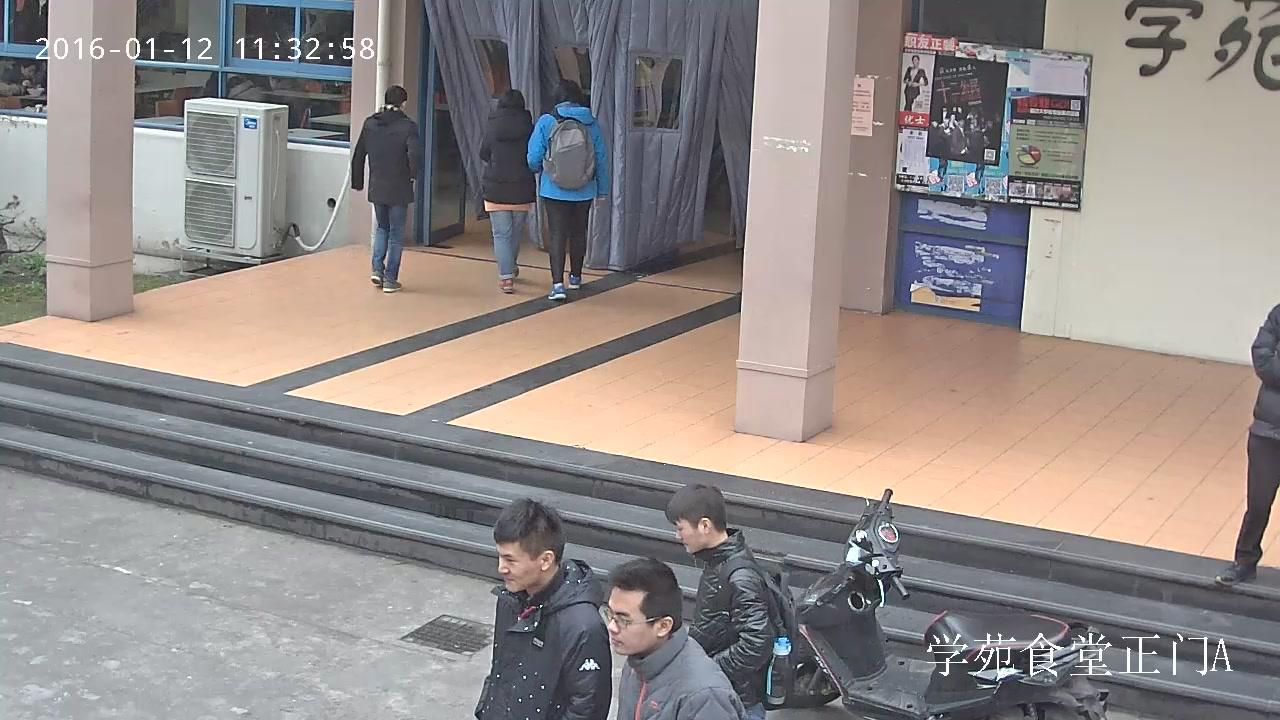person: (665, 482, 798, 720), (474, 495, 613, 720), (599, 556, 750, 720), (1214, 301, 1280, 586), (527, 79, 609, 299), (350, 84, 419, 292), (478, 89, 536, 293), (263, 74, 310, 126), (0, 58, 44, 96), (903, 54, 928, 111), (226, 76, 266, 102)
